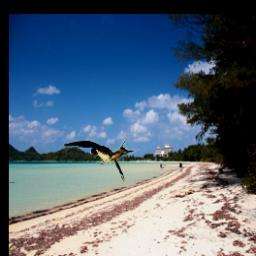Swallow: (62, 136, 148, 181)
